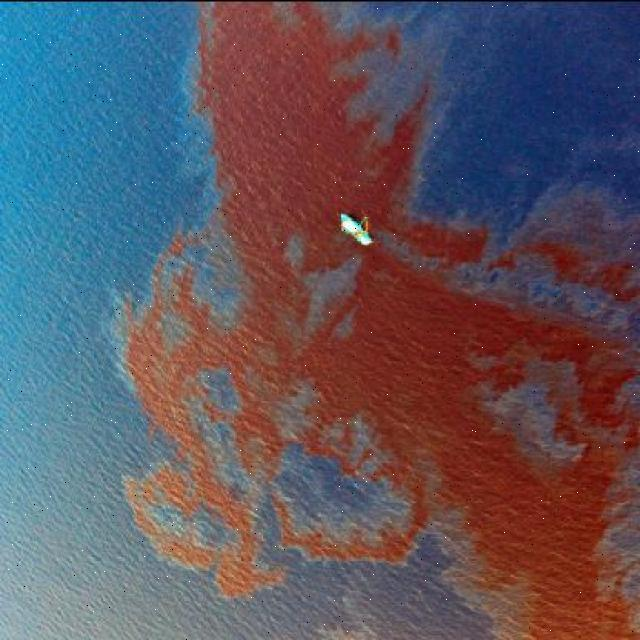truecolor: (126, 3, 640, 640)
